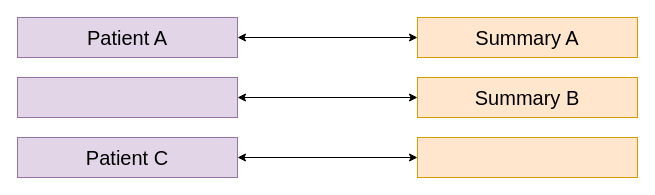
Image size: 655x195. Some labels were removed from this diagram. The shapes that lost their labels are listed below. From the top down, each one's centre as x and y in pixels, then its label:
point (127, 97): Patient B
point (527, 157): Summary C
